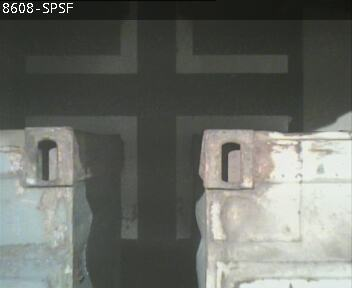groundmarker_1: (25, 116, 285, 237), (27, 1, 287, 72)
